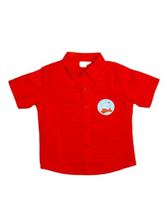clothoes: (10, 55, 157, 175)
